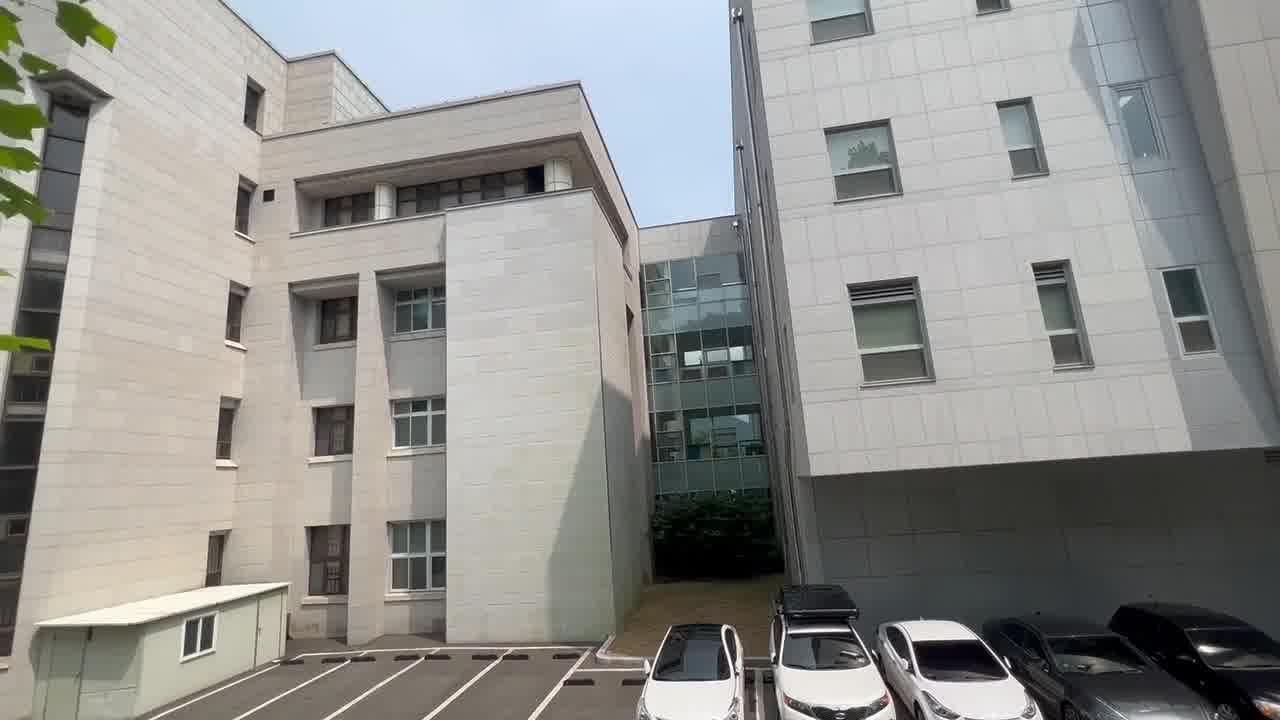building: (111, 2, 1266, 624)
